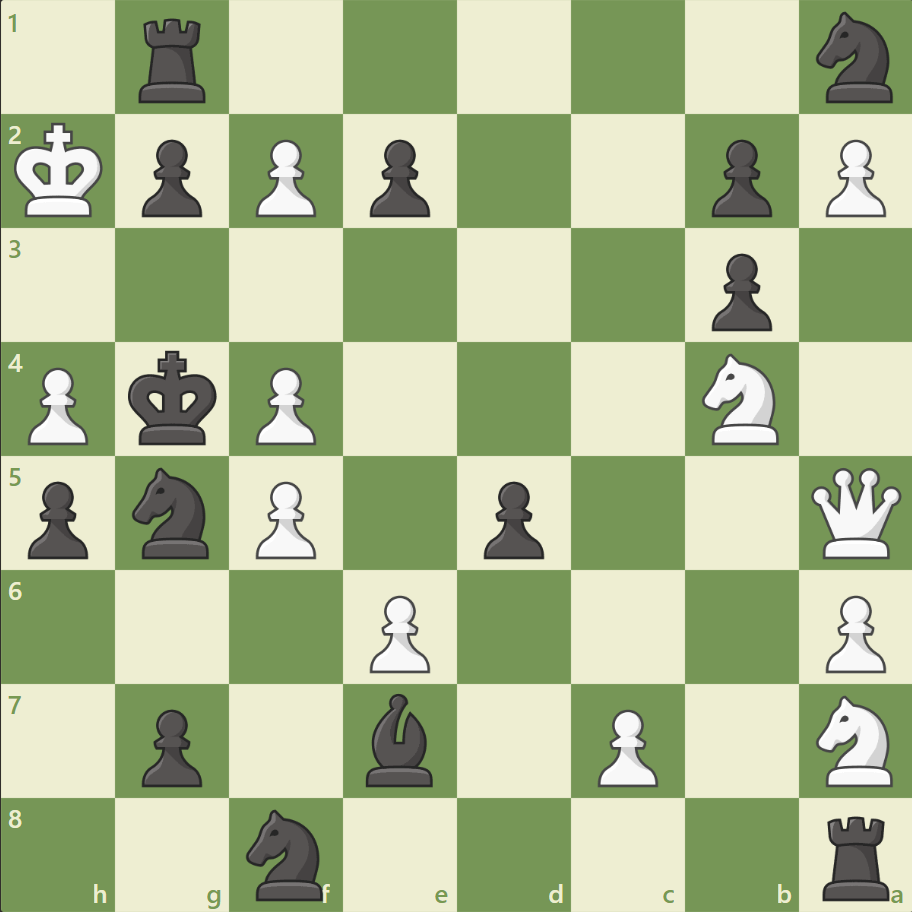K: (11, 117, 111, 225)
N: (806, 688, 903, 791), (692, 348, 789, 450)
P: (247, 473, 322, 564), (247, 359, 322, 450), (20, 359, 95, 450), (247, 132, 322, 223), (588, 700, 662, 791), (815, 586, 889, 677), (361, 586, 435, 677), (815, 132, 889, 223)
Q: (805, 463, 904, 562)
b: (358, 687, 442, 790)
k: (124, 344, 224, 452)
n: (124, 461, 222, 564), (806, 7, 903, 110), (238, 802, 335, 904)
p: (133, 700, 208, 791), (474, 473, 549, 564), (20, 473, 95, 564), (701, 246, 776, 337), (701, 132, 776, 223), (133, 132, 208, 223), (361, 132, 435, 223)
r: (814, 806, 897, 904), (133, 12, 215, 109)
